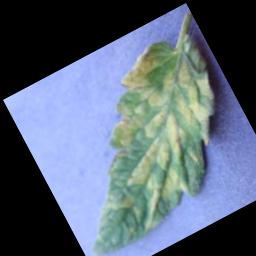Leaf_Mold: (19, 24, 256, 256)
